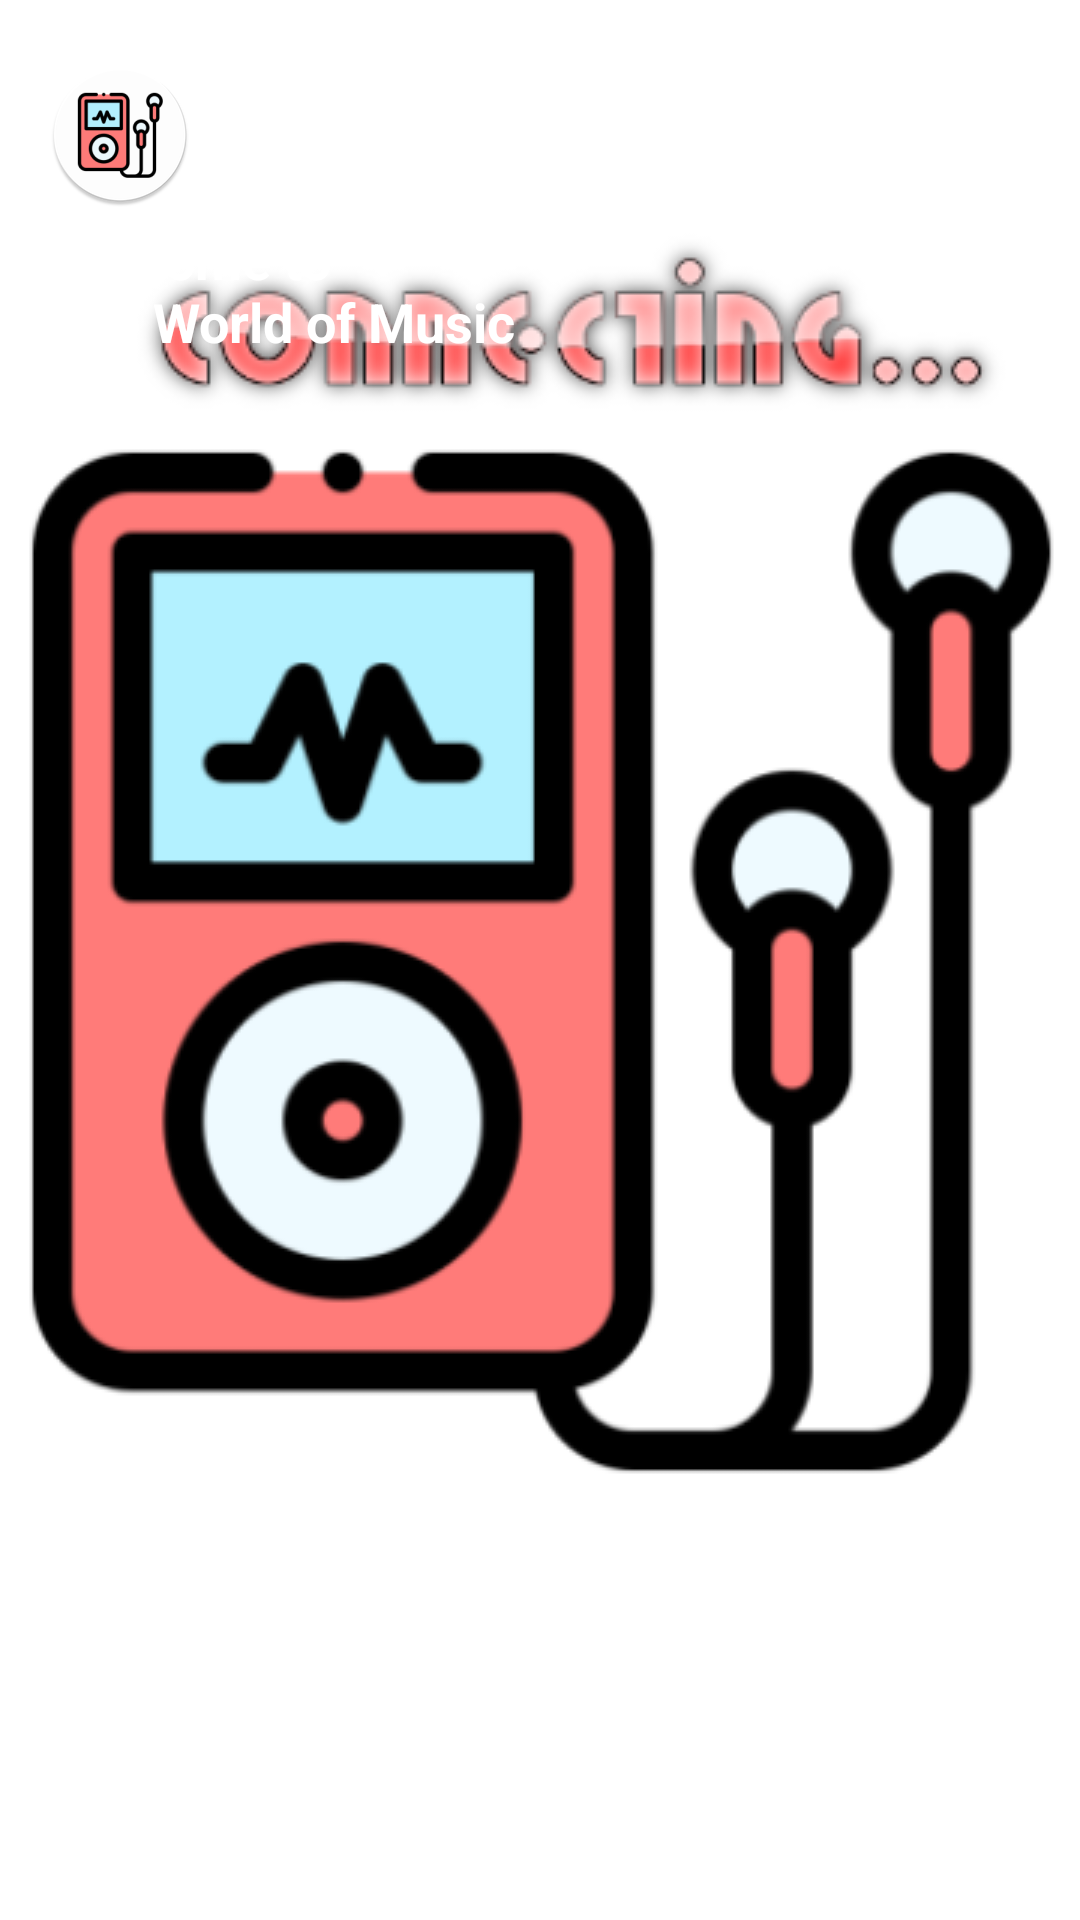

Named icons in this screenshot (1080x1920) and their centers, (x,y):
music player round: (121,148)
